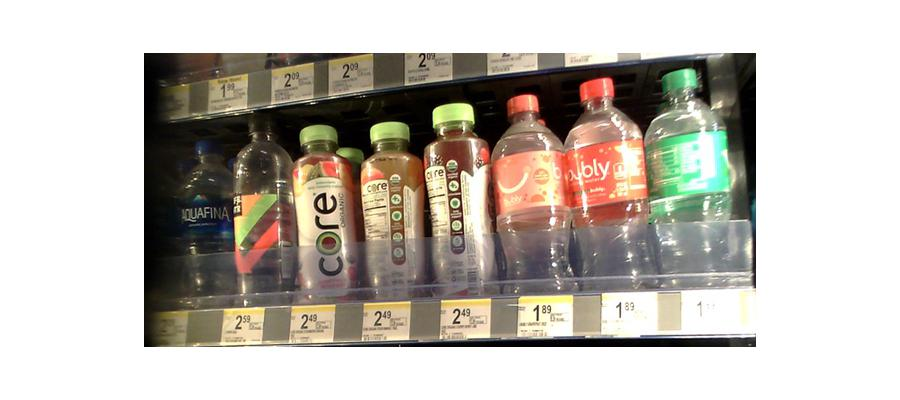bottle: (643, 68, 739, 284), (565, 77, 648, 291), (493, 95, 570, 296), (422, 102, 494, 299), (290, 123, 359, 302), (231, 111, 291, 301), (360, 119, 424, 297), (177, 131, 230, 301)
